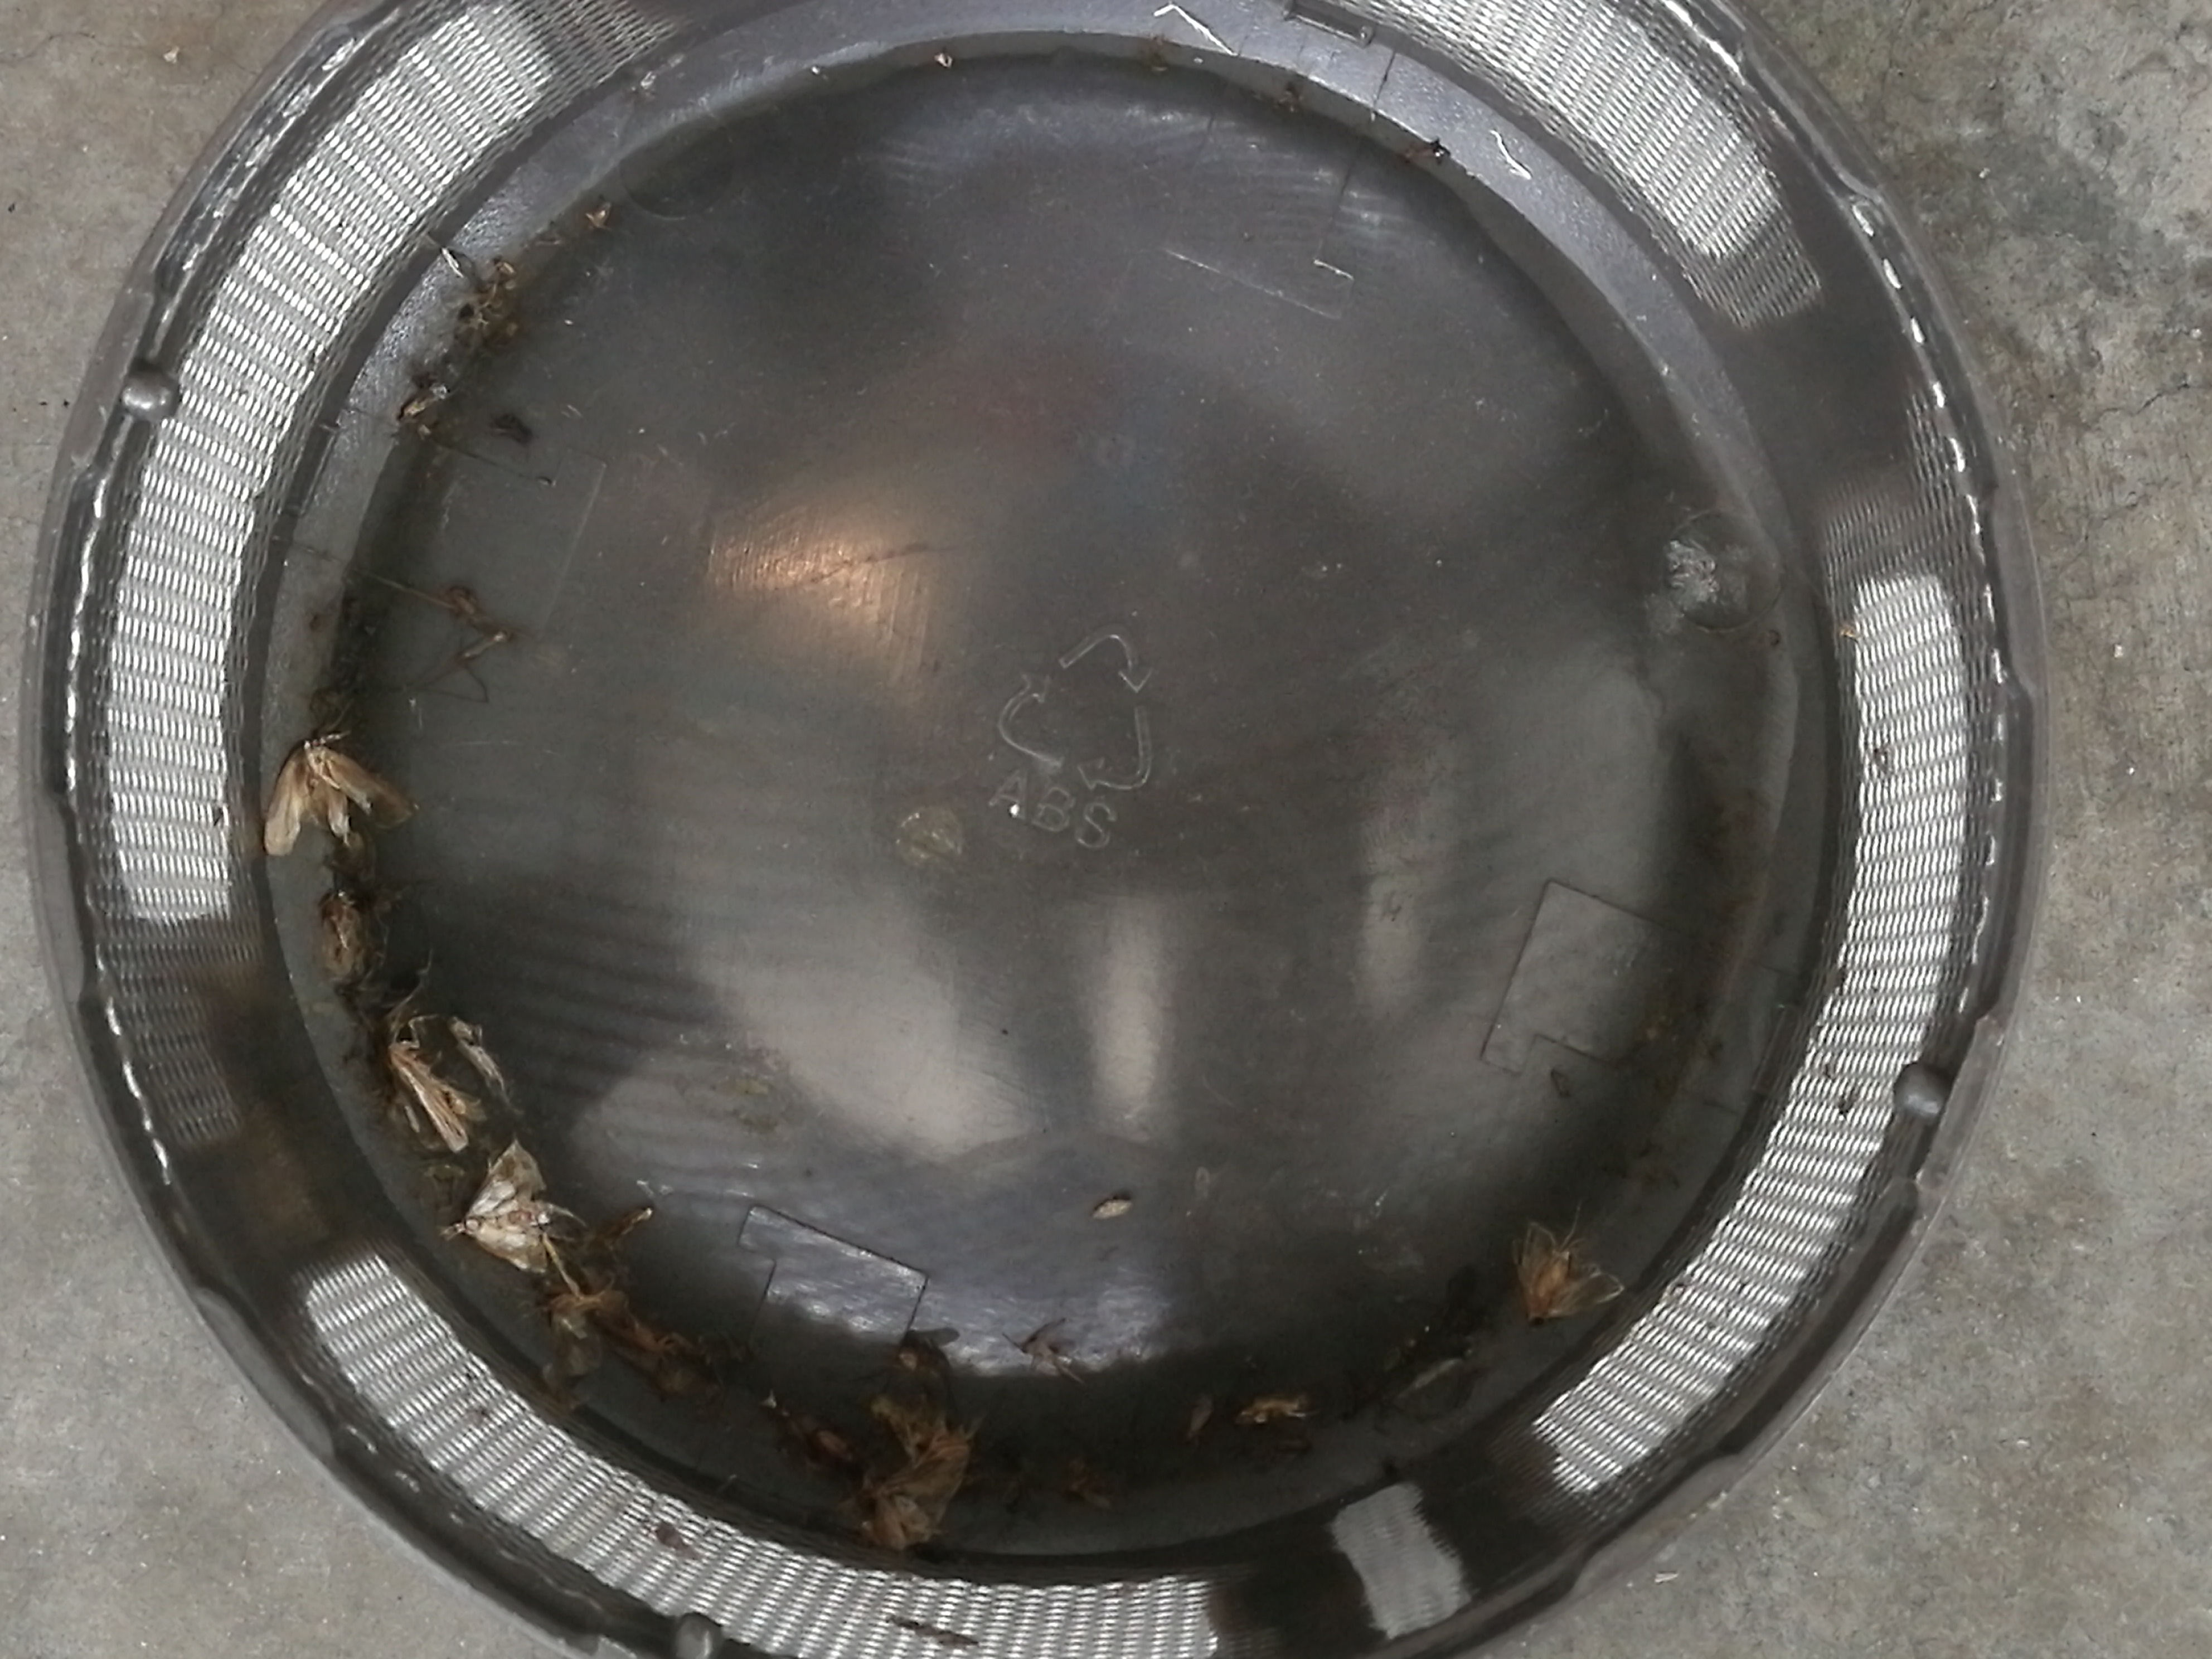mosquito: (388, 1039, 470, 1148)
moth: (261, 742, 411, 852), (1510, 1223, 1623, 1323), (465, 1145, 545, 1272), (874, 1443, 968, 1551)
